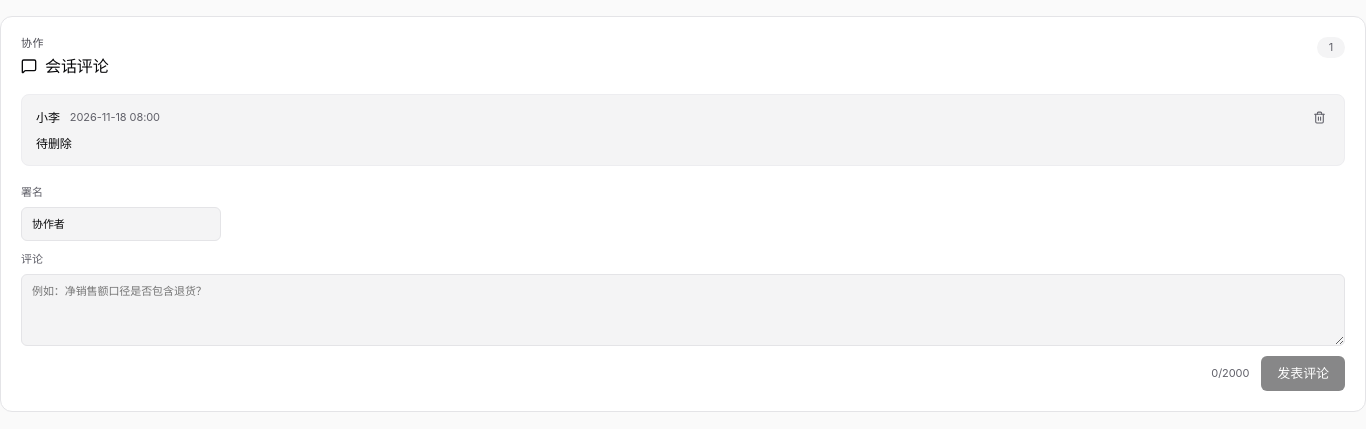
it: CommentsPanel › 删除评论并从列表移除
The image size is (1366, 429).
Expected: the text "待删除" is shown, [36,136,72,151]
What coordinates should you click on to do the following:
click the button named "删除 小李 的评论"
I would click on:
 (1320, 118)
Its box is [1309,107,1330,128].
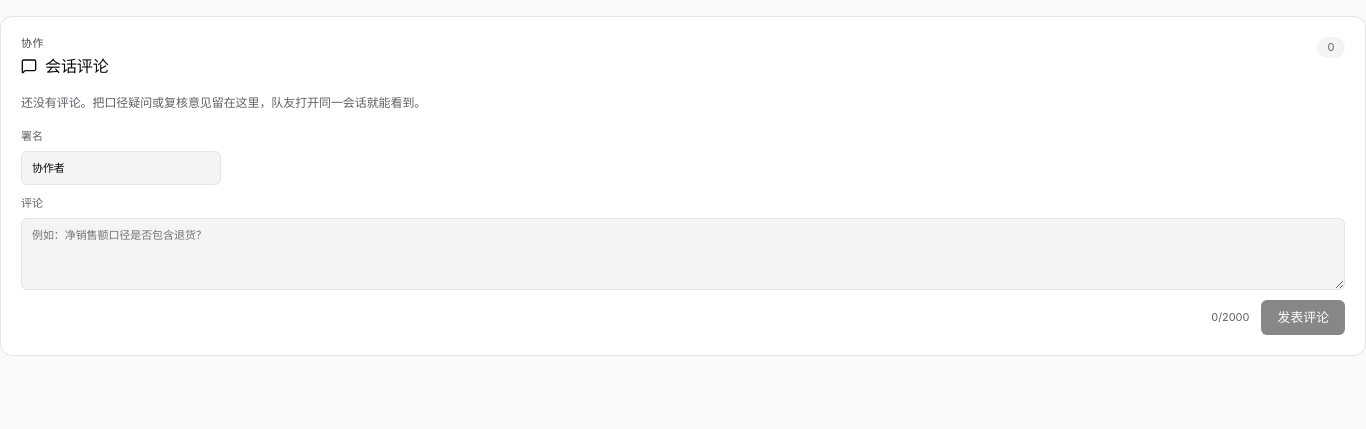
Result: the text "待删除" is gone
